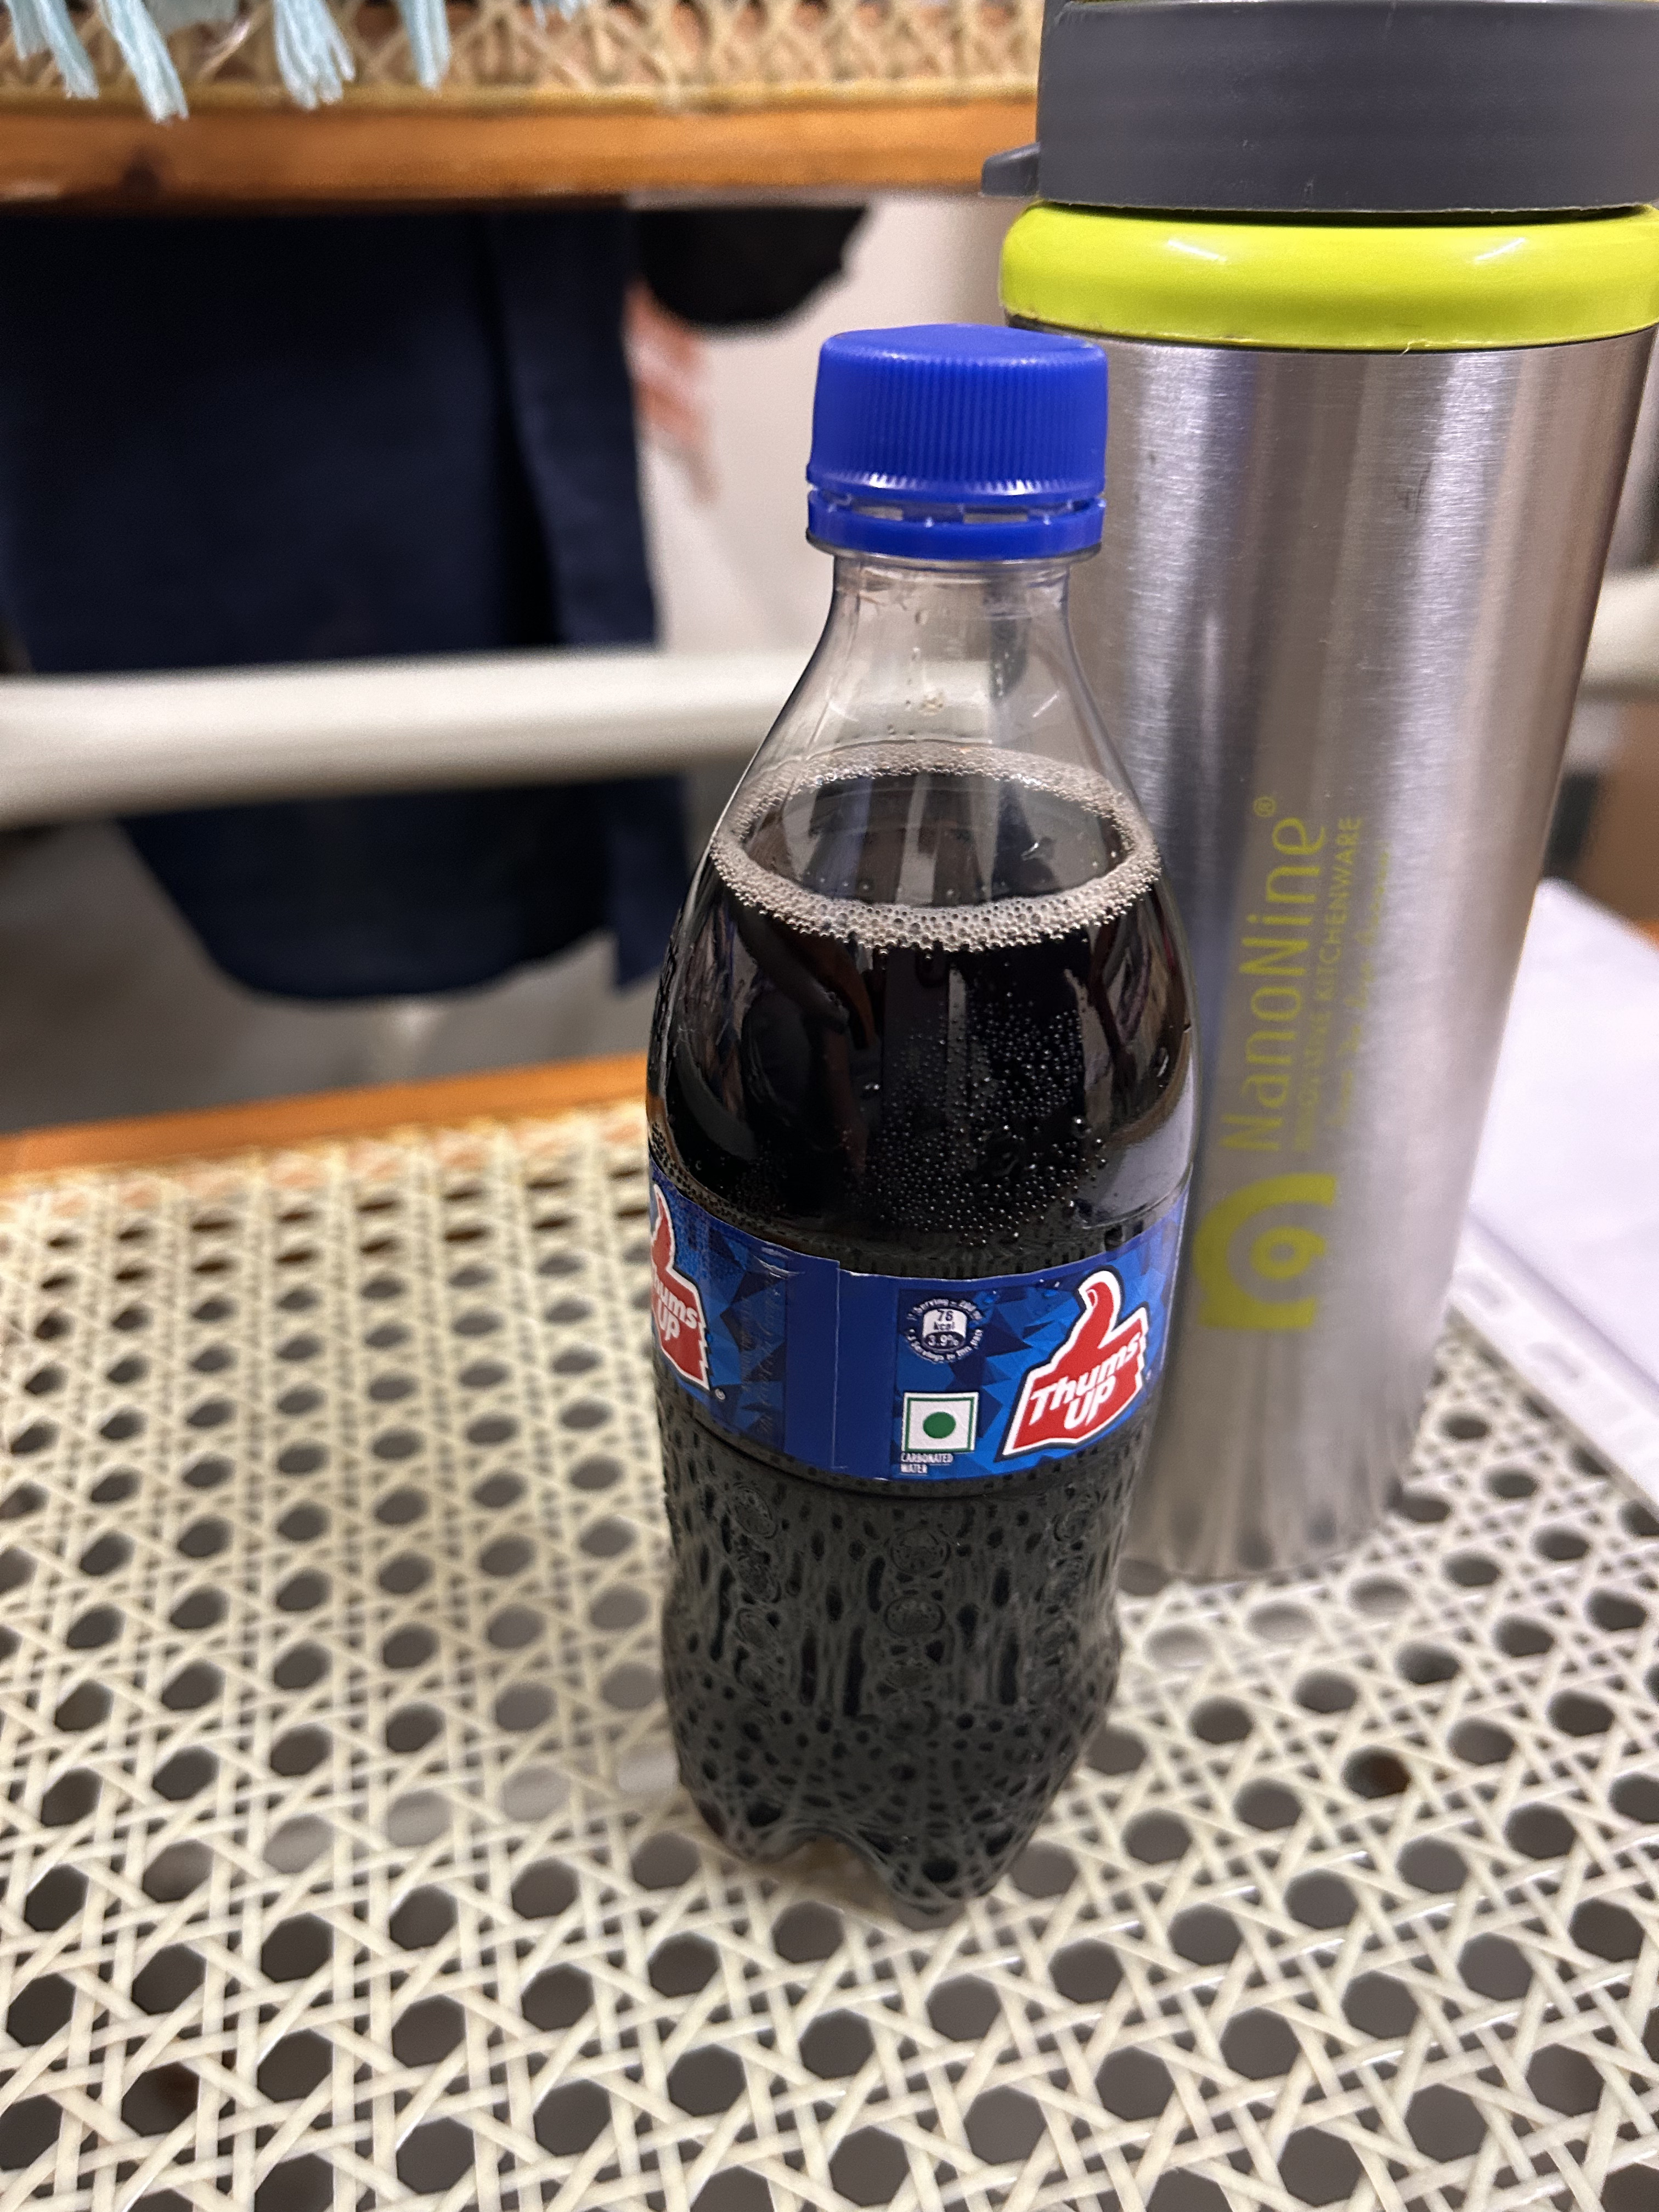unsealed: (803, 270, 1126, 653)
